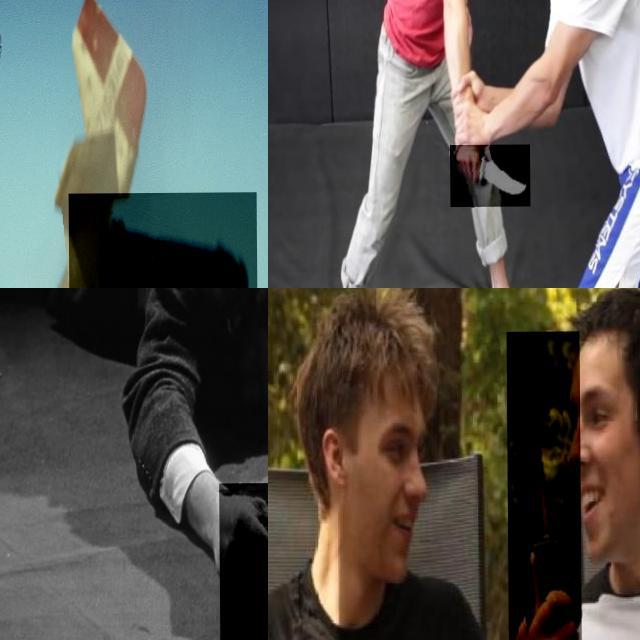-: (506, 332, 581, 640), (450, 146, 530, 208)
gun-knife-thesis - v11 Yolov5 augmented: (68, 192, 258, 288), (218, 483, 268, 640)
